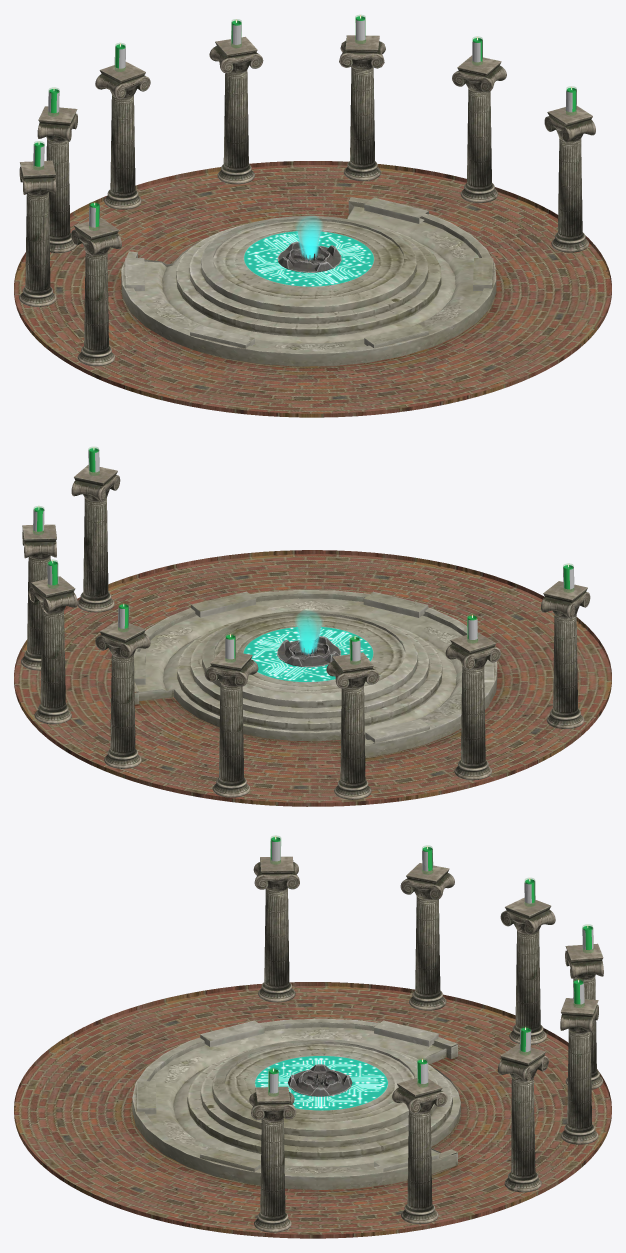
Rendered from altar88.glb.
3 views of the same model, one above another, from view 1: azimuth 30°, elevation 25°; view 2: azimuth 150°, elevation 25°; view 3: azimuth 270°, elevation 25° (orthographic).
Visible parts, largest first — view 1: Floor, Floor2.002, Ionic_Column__0.004, Ionic_Column__0.005, Ionic_Column, Ionic_Column__0.006, Ionic_Column__0.007, Ionic_Column__0.001, goldCircuit, Ionic_Column__0.002, Ionic_Column__0.003, Object_2.001 (+1 smaller); view 2: Floor, Floor2.002, Ionic_Column__0.005, Ionic_Column__0.003, Ionic_Column__0.004, Ionic_Column__0.002, Ionic_Column__0.007, Ionic_Column__0.001, Ionic_Column, goldCircuit, Ionic_Column__0.006, Object_2.001 (+1 smaller); view 3: Floor, Floor2.002, Ionic_Column__0.001, Ionic_Column__0.007, Ionic_Column__0.002, Ionic_Column__0.006, Ionic_Column, Ionic_Column__0.003, Ionic_Column__0.005, goldCircuit, Ionic_Column__0.004, Object_2.001.
Part boxes in pixels (x1,y1,x2,y2): Floor: (14,161,611,417); Floor2.002: (121,197,496,366); Ionic_Column__0.004: (95,62,150,209); Ionic_Column__0.005: (209,36,263,184); Ionic_Column: (339,35,385,181); Ionic_Column__0.006: (452,55,506,202); Ionic_Column__0.007: (544,106,595,252); Ionic_Column__0.001: (71,218,121,366); goldCircuit: (244,231,373,286); Ionic_Column__0.002: (19,160,56,306); Ionic_Column__0.003: (37,106,77,252); Object_2.001: (277,241,341,272); Floor: (14,550,611,806); Floor2.002: (134,590,497,757); Ionic_Column__0.005: (95,622,150,768); Ionic_Column__0.003: (326,652,379,799); Ionic_Column__0.004: (204,650,258,797); Ionic_Column__0.002: (445,632,500,780); Ionic_Column__0.007: (71,465,120,612); Ionic_Column__0.001: (541,581,590,728); Ionic_Column: (28,576,77,724); goldCircuit: (243,626,373,682); Ionic_Column__0.006: (21,524,56,670); Object_2.001: (277,636,340,667); Floor: (14,982,611,1238); Floor2.002: (132,1018,460,1189); Ionic_Column__0.001: (253,856,299,1002); Ionic_Column__0.007: (249,1086,296,1232); Ionic_Column__0.002: (400,863,454,1010); Ionic_Column__0.006: (392,1078,447,1224); Ionic_Column: (497,1044,548,1192); Ionic_Column__0.003: (500,897,555,1044); Ionic_Column__0.005: (560,998,598,1144); goldCircuit: (255,1056,388,1110); Ionic_Column__0.004: (565,943,603,1089); Object_2.001: (288,1064,352,1096).
Size of what is drawn, in the model's own units: 60 by 18.61 by 60.
11 materials, 7 textured.
